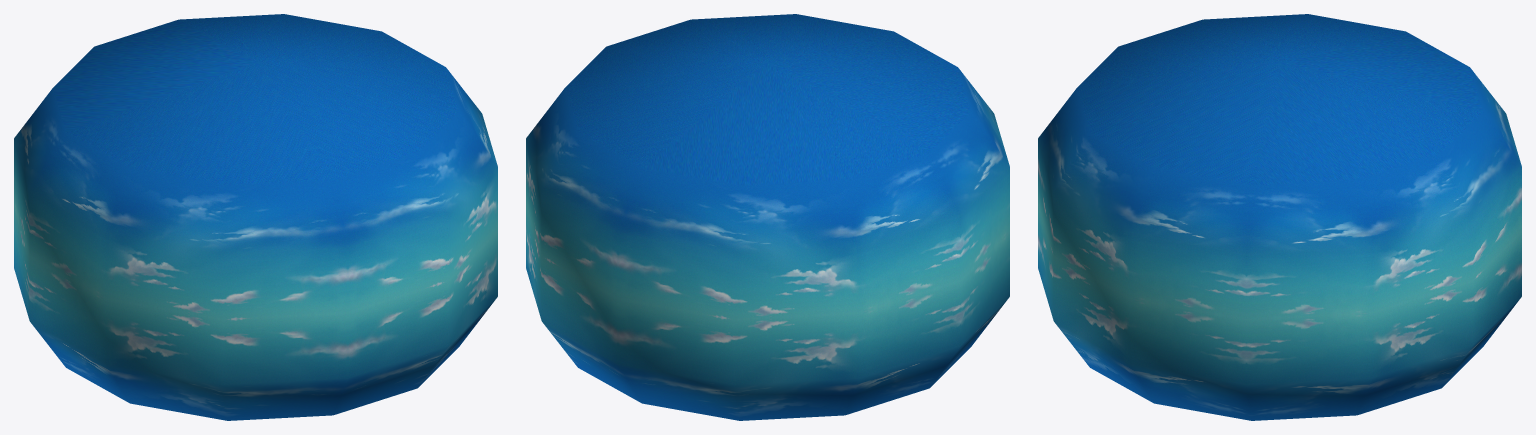
Rendered from shendian.FBX.
3 renders of one model, left to right at view 1: azimuth 30°, elevation 25°; view 2: azimuth 150°, elevation 25°; view 3: azimuth 270°, elevation 25°, orthographic.
Parts seen in each view (by area): view 1: Object047; view 2: Object047; view 3: Object047.
Boxes of the visible parts, x1,y1,x2,y2 form: Object047: (14,14,497,420); Object047: (526,14,1009,420); Object047: (1038,14,1521,420).
Size of the model in its own units: 67815 by 47927 by 67815.
